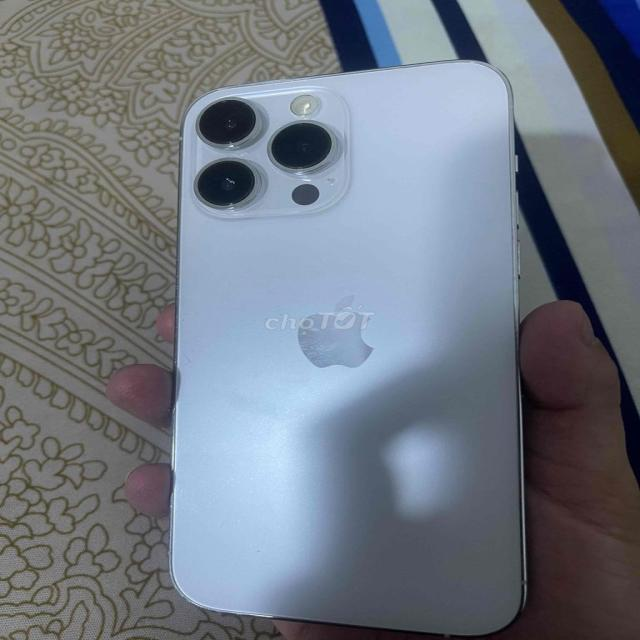gen_12_13: (142, 60, 542, 637)
